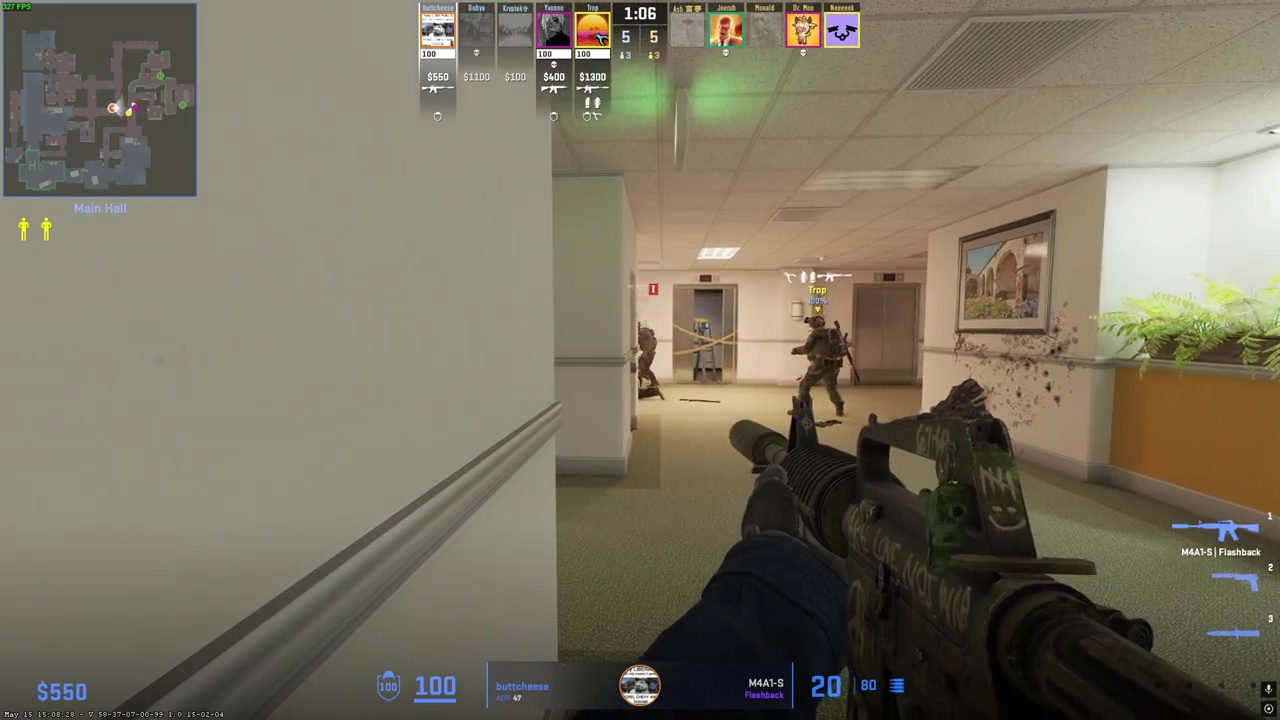CT: (794, 315, 847, 420), (635, 325, 662, 402)
